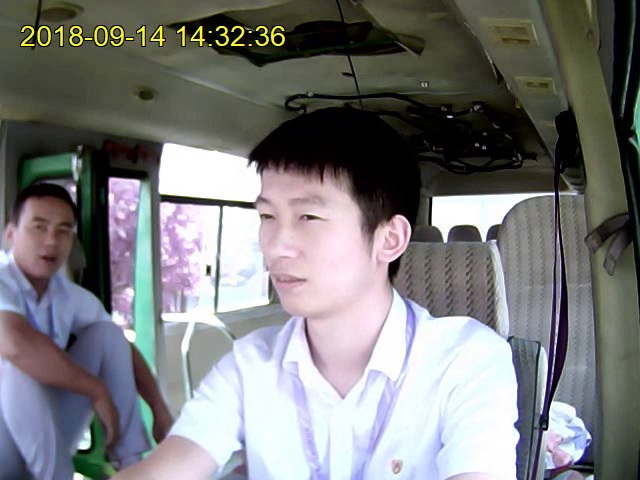closed_mouth: (265, 267, 309, 294)
